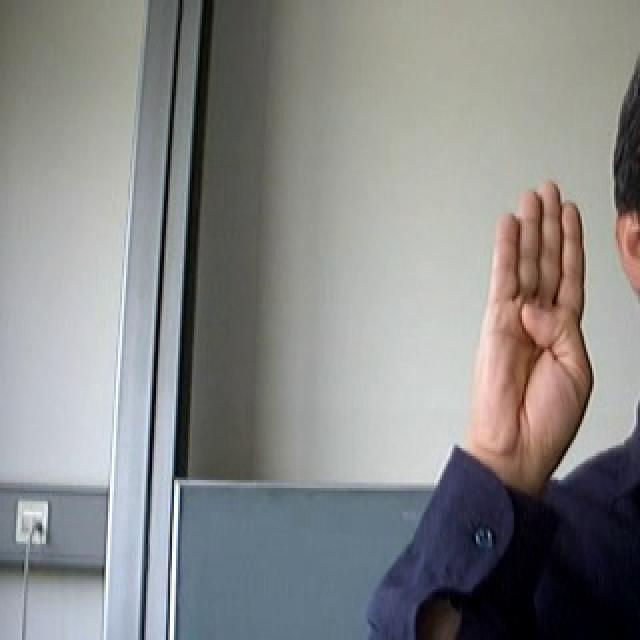B: (452, 160, 599, 484)
